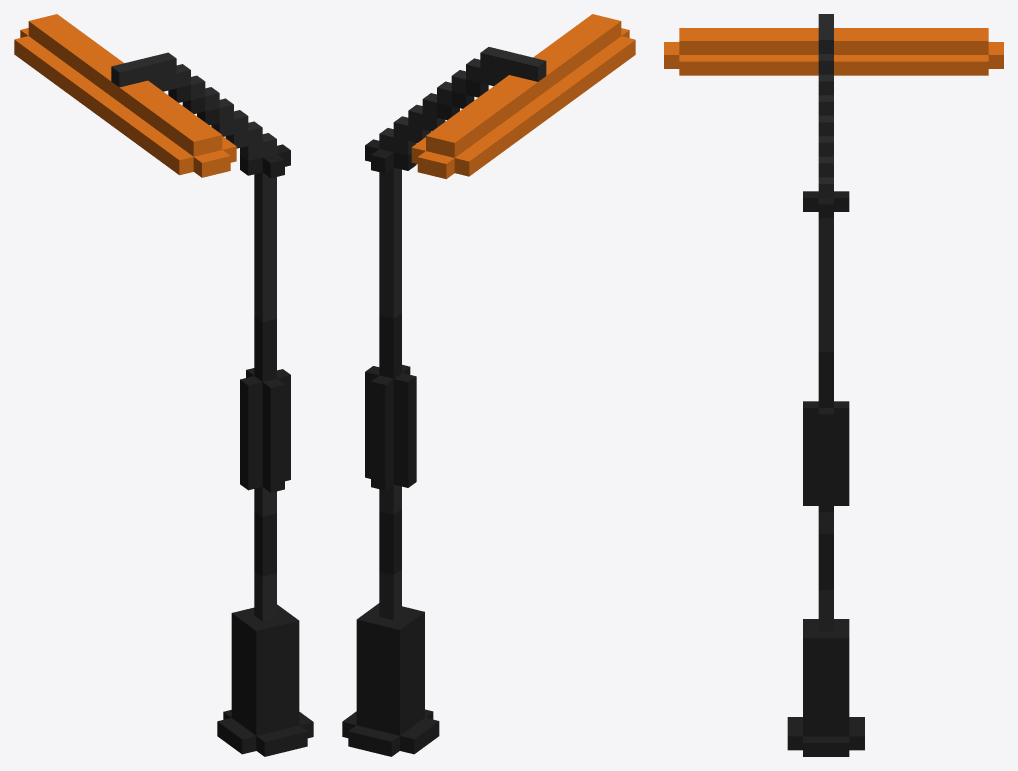
The model's file is Streetlight0.obj.
The picture shows the model from 3 angles, left to right: view 1: azimuth 30°, elevation 25°; view 2: azimuth 150°, elevation 25°; view 3: azimuth 270°, elevation 25°; orthographic projection. The views are drawn at different scales.
Bounding box in the file's own units: 1.4 × 4.7 × 2.2.
1 material, 1 textured.
